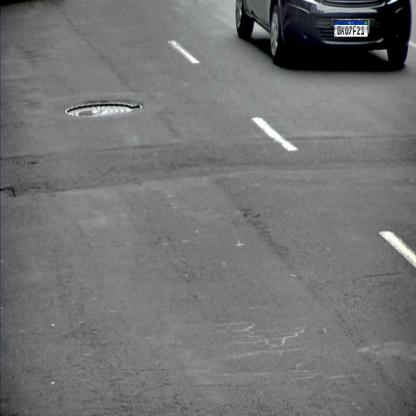PlacaM: (334, 20, 368, 38)
